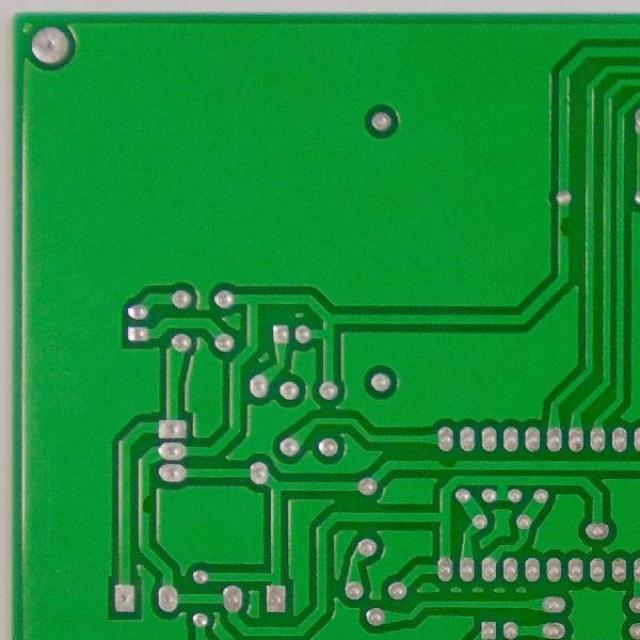mouse_bite: (434, 454, 461, 475), (556, 213, 576, 240), (138, 492, 154, 519)
